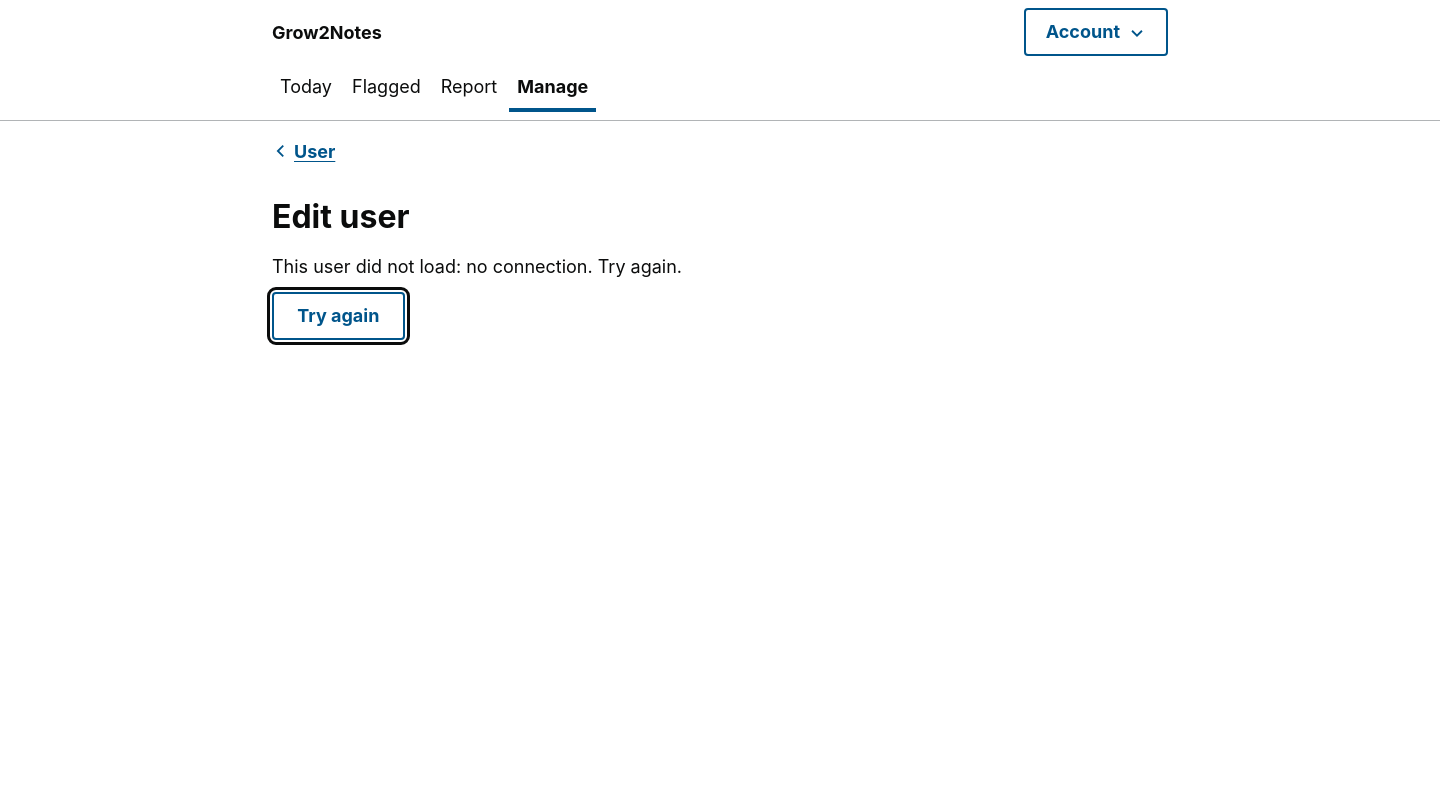
Test case: Edit user › keeps its <h1> above "This user did not load: …" and Try again, which focuses it as the list loads
expect the message reads "This user did not load: no connection. Try again.": met, box top-left (272, 256), bottom-right (682, 277)
Click the button "Try again". click: click(338, 316)
box: top-left (272, 292), bottom-right (405, 340)
Wait 2000 ms
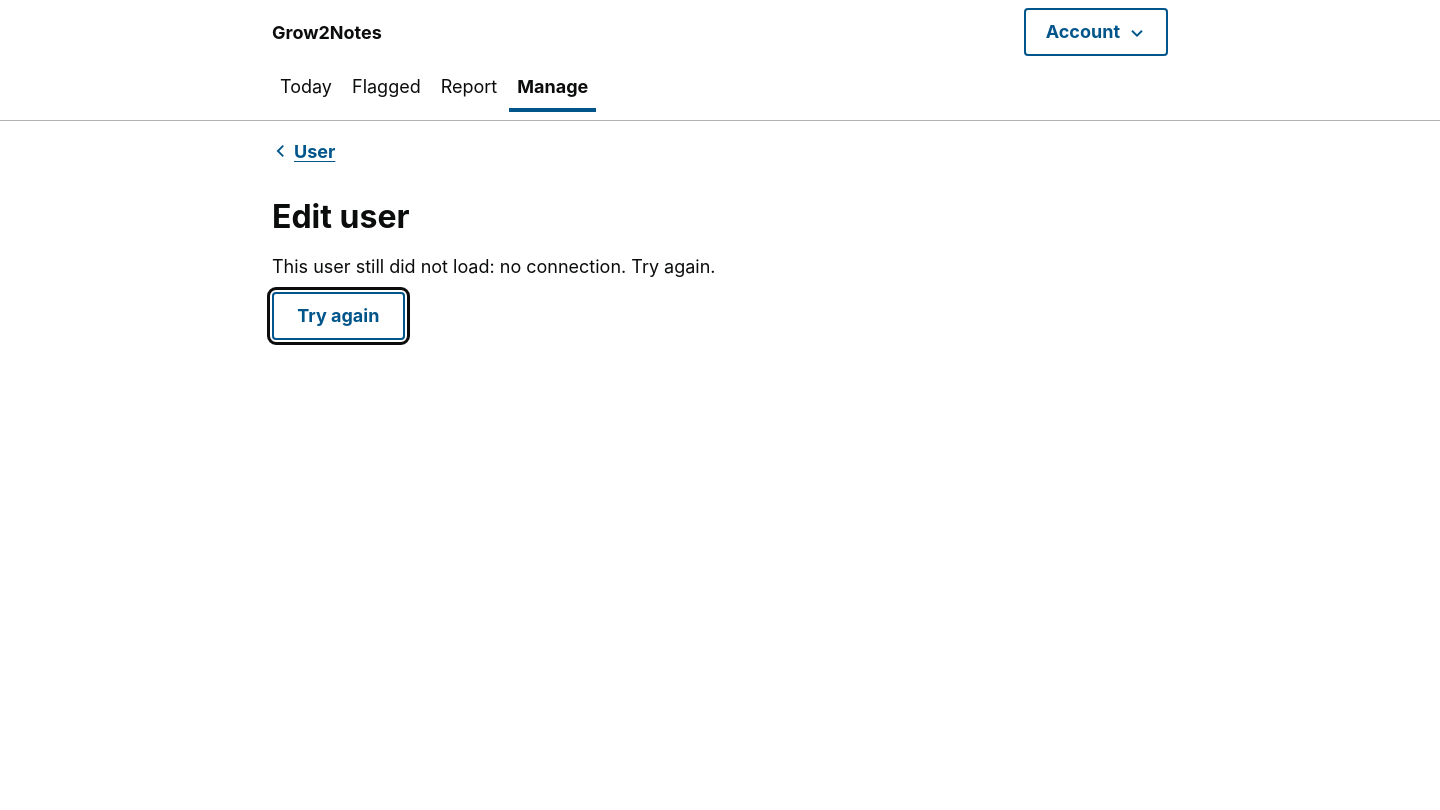
expect the message reads "This user still did not load: no connection. Try again.": met, box top-left (272, 256), bottom-right (716, 277)
Click the button "Try again". click: click(338, 316)
box: top-left (272, 292), bottom-right (405, 340)
Wait 2 ms
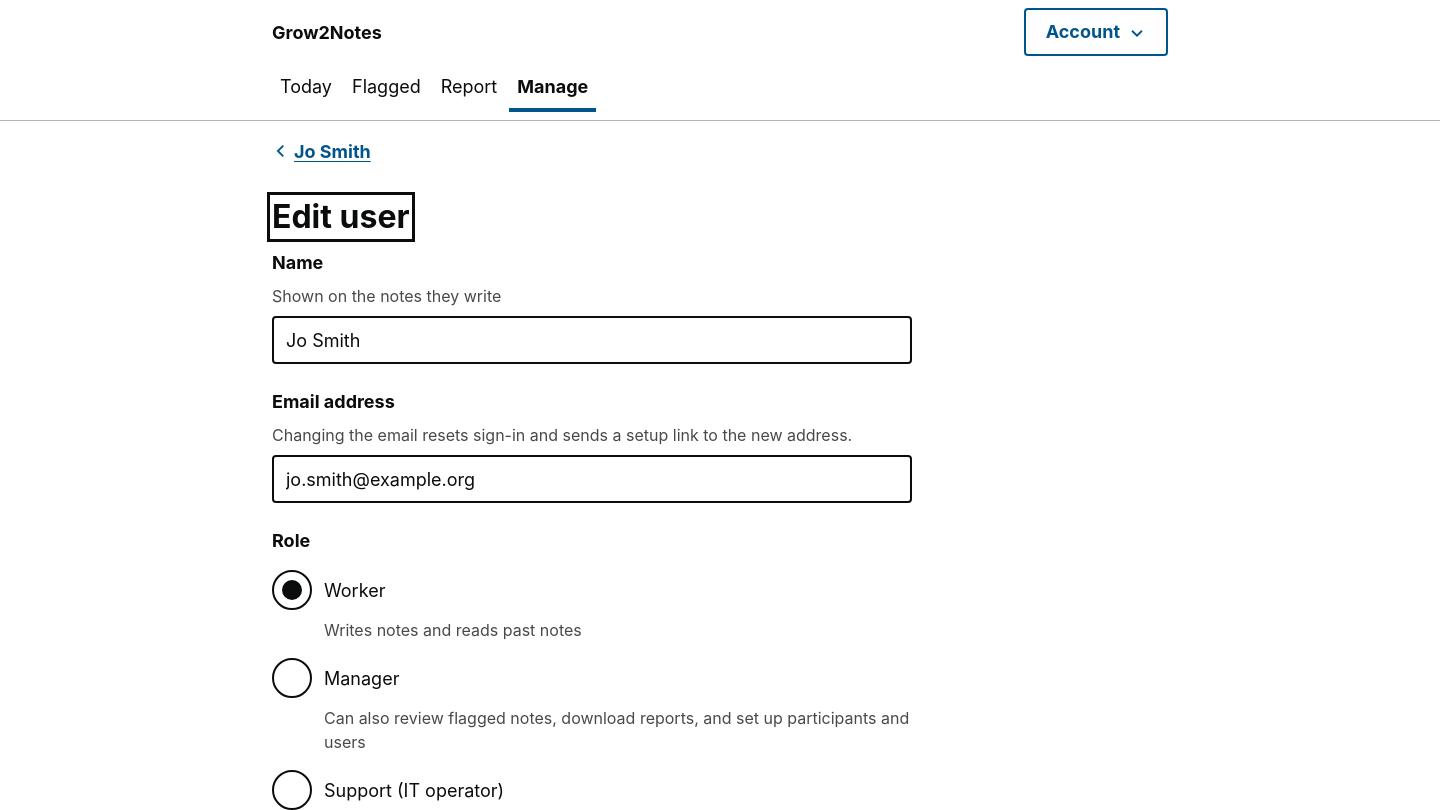
expect the field labelled "Name" holds "Jo Smith": met, box top-left (272, 316), bottom-right (912, 364)
expect the field labelled "Email address" holds "jo.smith@example.org": met, box top-left (272, 455), bottom-right (912, 503)
expect the radio button labelled "Worker" is checked: met, box top-left (272, 570), bottom-right (312, 610)
